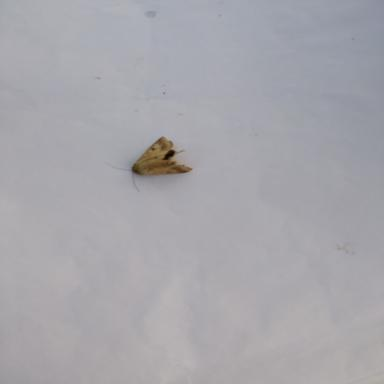abw: (103, 136, 194, 194)
